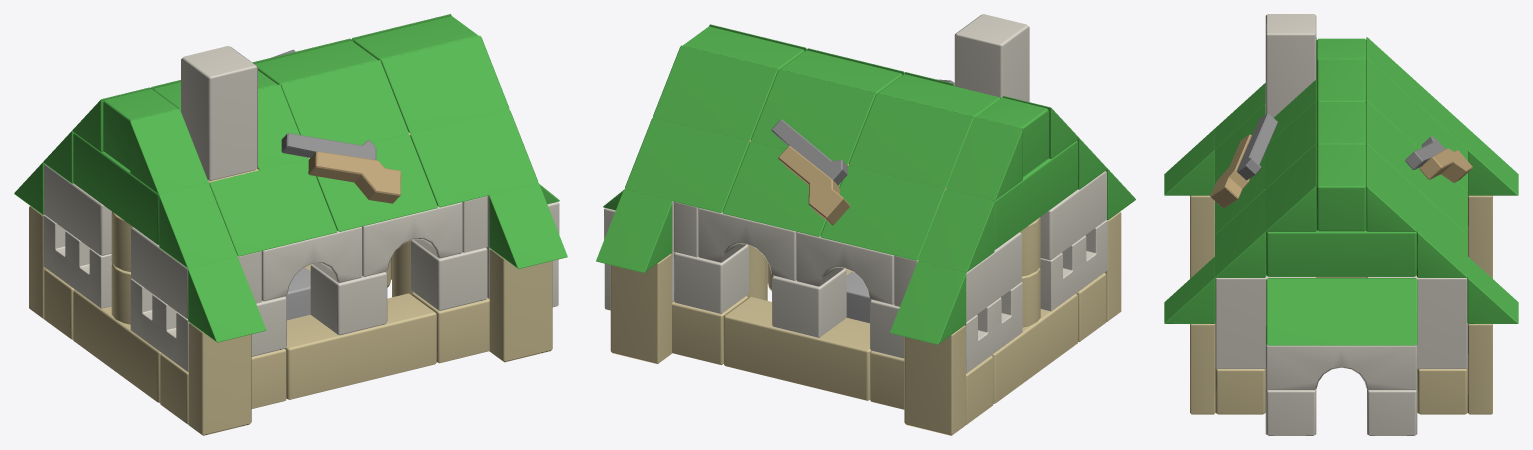
File: house gun.fbx
3 views of the same model, side by side, from view 1: azimuth 30°, elevation 25°; view 2: azimuth 150°, elevation 25°; view 3: azimuth 270°, elevation 25° (orthographic). The views are drawn at different scales.
Visible parts, largest first — view 1: pCube494, pCube486, pCube449, pCube460, pCube447, pCube461, pCube406, pCube409, pCube448, pCube451, pCube450, pCube501 (+31 smaller); view 2: pCube500, pCube455, pCube480, pCube478, pCube453, pCube479, pCube417, pCube418, pCube486, pCube454, pCube457, pCube456 (+31 smaller); view 3: pCube412, pCube459, pCube395, pCube410, pCube411, pCube486, pCube484, pCube460, pCube480, pCube449, pCube455, symbol1:pPlane9 (+27 smaller).
Boxes of the visible parts, box(x1,y1,x2,y2) form: pCube494: box(285, 293, 436, 399); pCube486: box(181, 46, 257, 181); pCube449: box(410, 109, 538, 207); pCube460: box(381, 35, 509, 133); pCube447: box(209, 158, 337, 256); pCube461: box(281, 60, 408, 145); pCube406: box(489, 249, 552, 362); pCube409: box(188, 322, 251, 435); pCube448: box(316, 134, 437, 231); pCube451: box(489, 183, 567, 269); pCube450: box(188, 256, 266, 342); pCube501: box(130, 109, 208, 194); pCube500: box(723, 297, 871, 400); pCube455: box(625, 117, 749, 212); pCube480: box(653, 45, 777, 140); pCube478: box(849, 93, 973, 188); pCube453: box(820, 165, 945, 260); pCube479: box(751, 69, 875, 164); pCube417: box(610, 254, 671, 364); pCube418: box(904, 325, 965, 435); pCube486: box(954, 14, 1029, 101); pCube454: box(722, 141, 841, 236); pCube457: box(890, 261, 966, 344); pCube456: box(596, 189, 672, 272); pCube412: box(1266, 278, 1417, 345); pCube459: box(1266, 230, 1416, 276); pCube395: box(1265, 326, 1417, 390); pCube410: box(1215, 275, 1316, 368); pCube411: box(1367, 275, 1467, 368); pCube486: box(1265, 14, 1316, 117); pCube484: box(1316, 144, 1366, 231); pCube460: box(1265, 144, 1316, 231); pCube480: box(1366, 144, 1417, 231); pCube449: box(1215, 190, 1265, 277); pCube455: box(1417, 190, 1467, 277); symbol1:pPlane9: box(1210, 113, 1277, 208).
Bounding box in the file's own units: 144 × 108 × 126.
